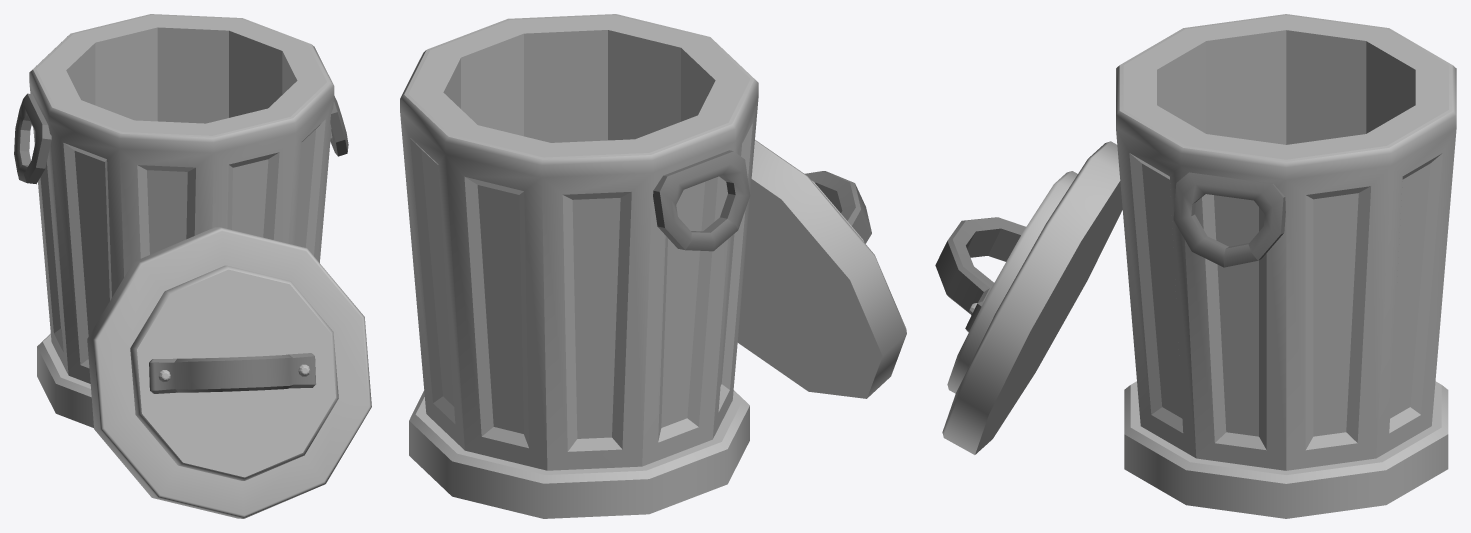
Rendered from SM_Bin2784.fbx.
3 renders of one model, left to right at view 1: azimuth 30°, elevation 25°; view 2: azimuth 150°, elevation 25°; view 3: azimuth 270°, elevation 25°, orthographic. The views are drawn at different scales.
Parts seen in each view (by area): view 1: SM_Bin2784; view 2: SM_Bin2784; view 3: SM_Bin2784.
Part boxes in pixels (bbox=[...]): SM_Bin2784: bbox=[14, 14, 371, 518]; SM_Bin2784: bbox=[400, 14, 906, 518]; SM_Bin2784: bbox=[935, 14, 1456, 518].
Bounding box in the file's own units: 86.74 × 86.02 × 104.
